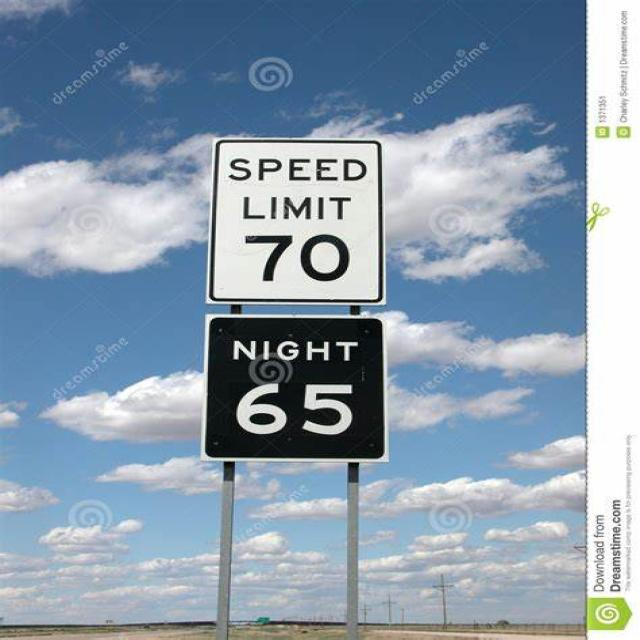speedLimit70: (207, 136, 388, 312)
